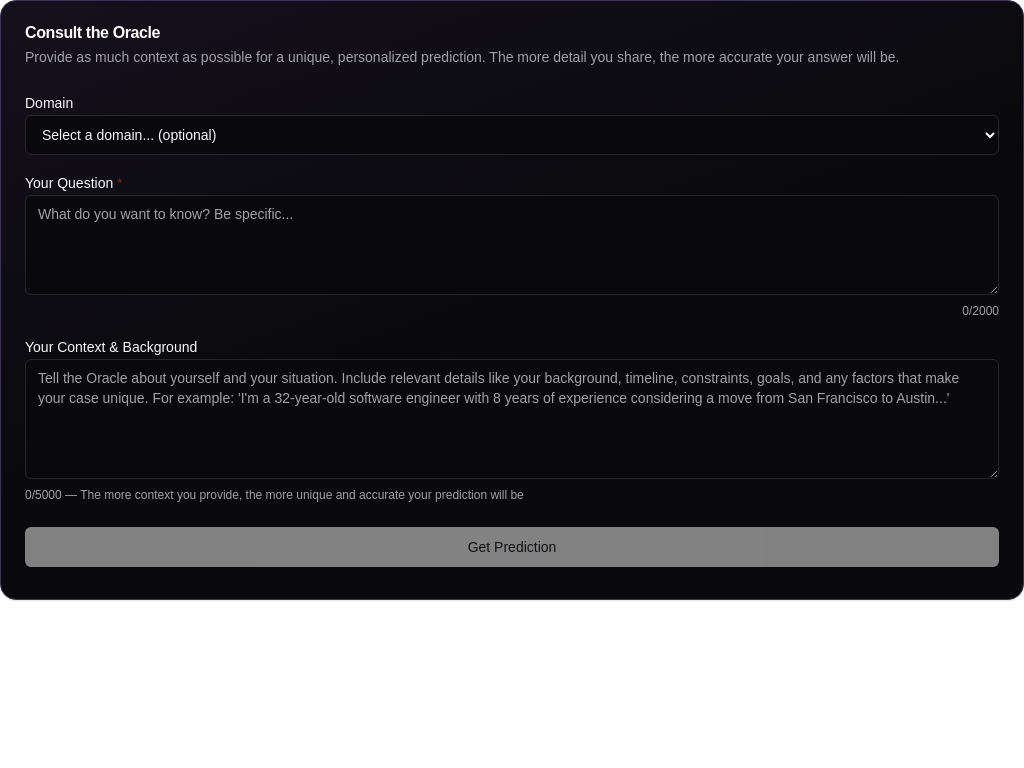
it: PredictionForm › shows validation error for short input
This screenshot has width=1024, height=768.
Type "Short" into the text box labelled "Your Question *" at (512, 245), box [25,195,999,295]
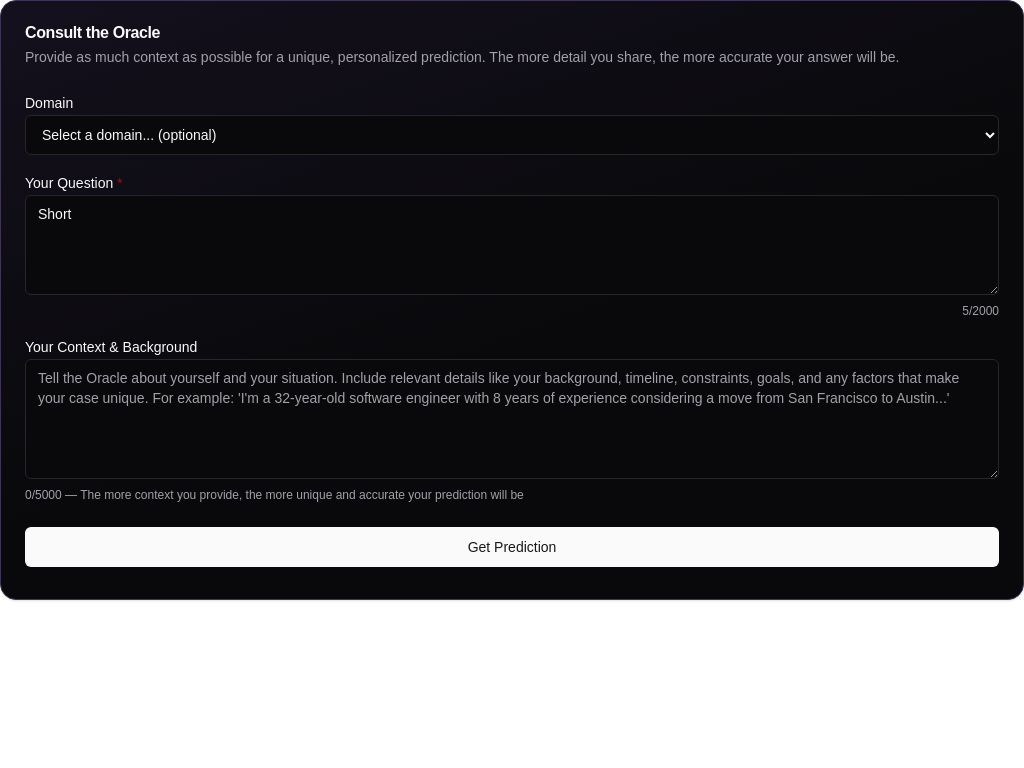
Click the button "Get Prediction" at (512, 547), box [25,527,999,567]
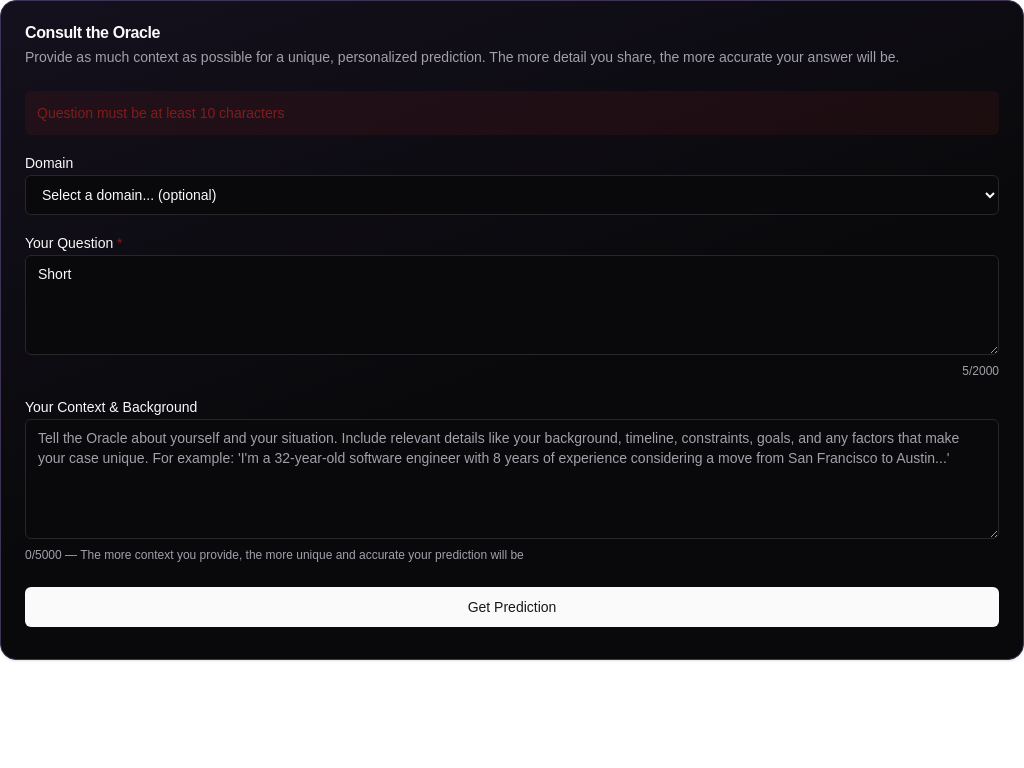
Expected: the text "Question must be at least 10 characters" is shown, [25,91,999,135]
